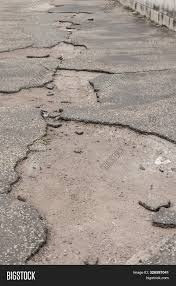pothole: (13, 112, 176, 263), (1, 5, 100, 62), (1, 64, 111, 110)
